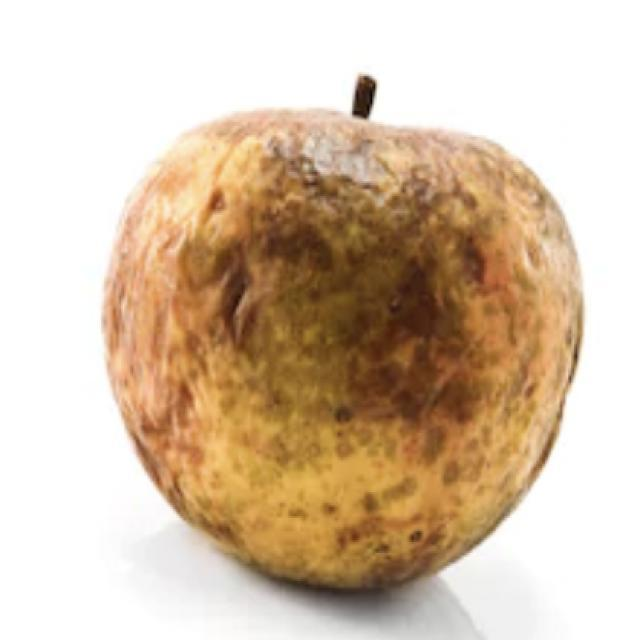Rotten: (99, 92, 588, 593)
